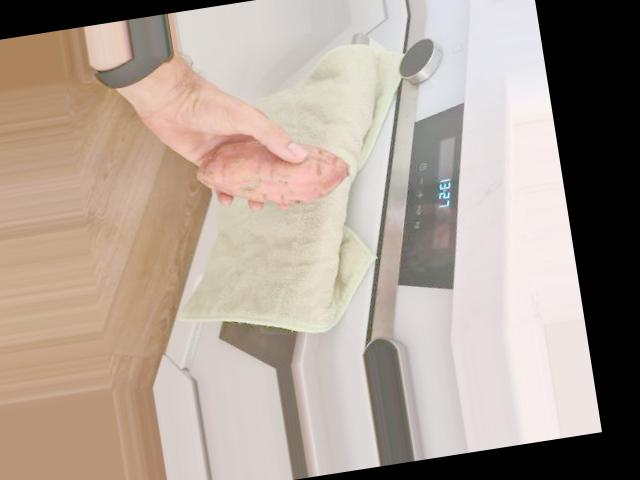sweet_potato: (188, 126, 352, 216)
